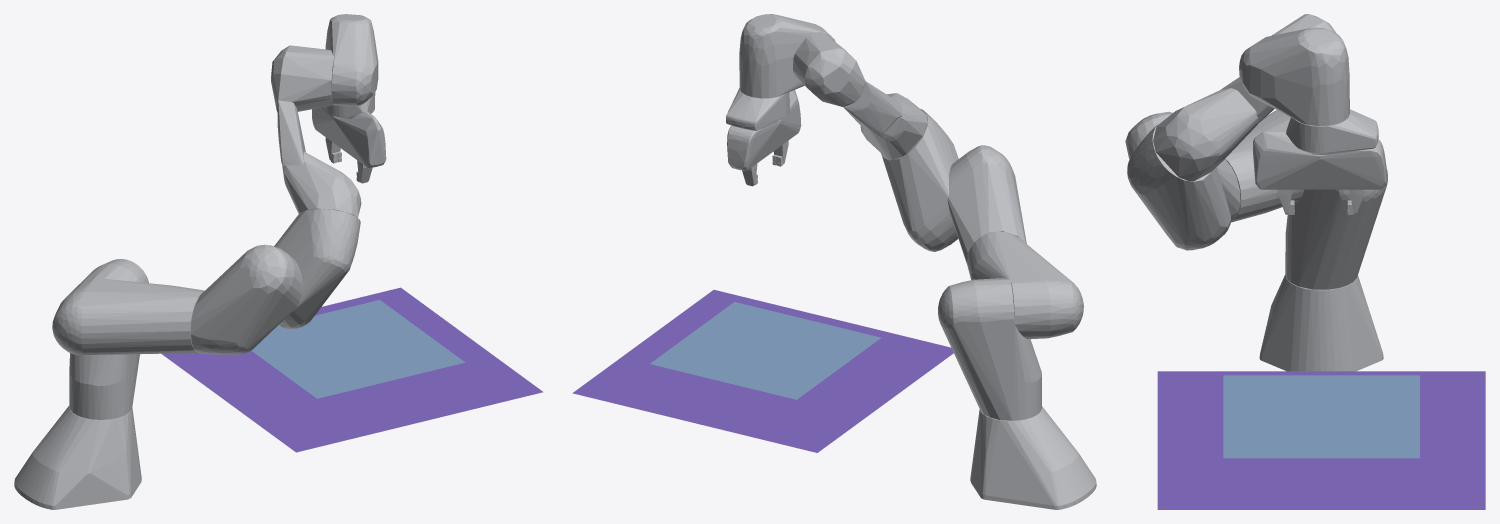
Rendered from ipc_cloth.glb.
3 views of the same model, side by side, from view 1: azimuth 30°, elevation 25°; view 2: azimuth 150°, elevation 25°; view 3: azimuth 270°, elevation 25° (orthographic). The views are drawn at different scales.
Bounding box in the file's own units: 0.9041 × 0.7792 × 0.5491.
